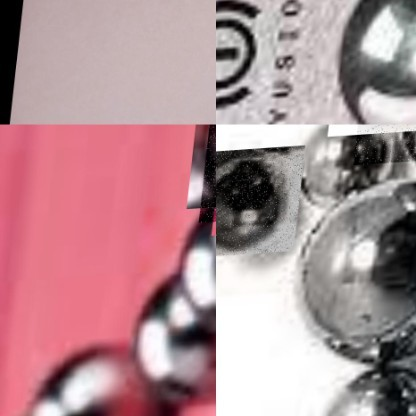ironball: (295, 165, 415, 387), (120, 265, 216, 415), (25, 331, 178, 415), (289, 124, 412, 226), (320, 0, 415, 124), (216, 148, 308, 259), (156, 207, 216, 358), (324, 368, 415, 415)
